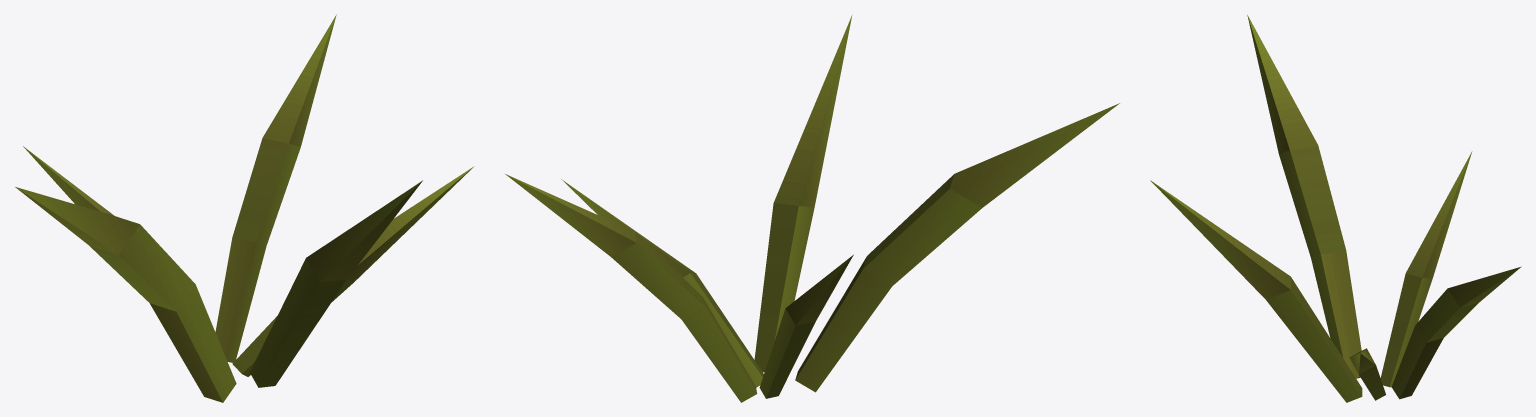
Rendered from Plant_Grass_1.fbx.
The picture shows the model from 3 angles, left to right: view 1: azimuth 30°, elevation 25°; view 2: azimuth 150°, elevation 25°; view 3: azimuth 270°, elevation 25°; orthographic projection. The views are drawn at different scales.
Visible parts, largest first — view 1: polySurface10612; view 2: polySurface10612; view 3: polySurface10612.
Part boxes in pixels (x1,y1,x2,y2): polySurface10612: (15, 14, 474, 402); polySurface10612: (505, 15, 1119, 402); polySurface10612: (1150, 15, 1521, 402).
Bounding box in the file's own units: 94.59 × 55.31 × 71.03.
